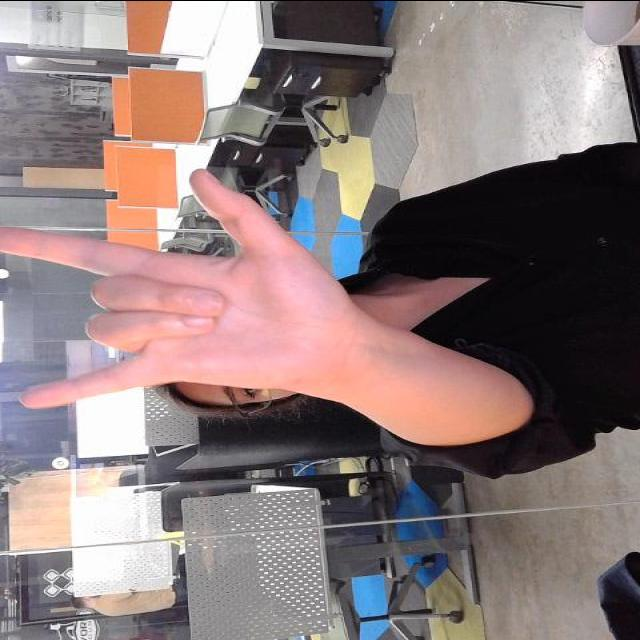Paper: (90, 0, 212, 58)
